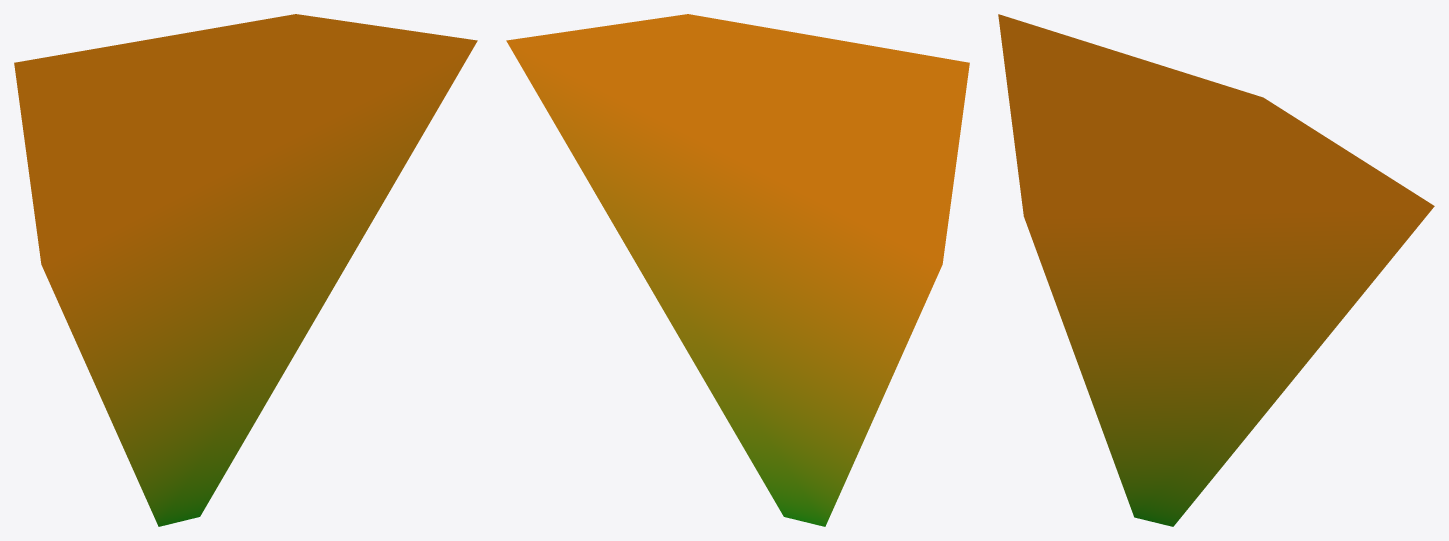
Rendered from Common Eelgrass_LOD4_Var3_sjglk.fbx.
3 renders of one model, left to right at view 1: azimuth 30°, elevation 25°; view 2: azimuth 150°, elevation 25°; view 3: azimuth 330°, elevation 25°, orthographic. The views are drawn at different scales.
Visible parts, largest first — view 1: _4f3b_Var3_LOD4; view 2: _4f3b_Var3_LOD4; view 3: _4f3b_Var3_LOD4.
Part boxes in pixels (x1,y1,x2,y2): _4f3b_Var3_LOD4: [14, 14, 477, 526]; _4f3b_Var3_LOD4: [506, 14, 969, 526]; _4f3b_Var3_LOD4: [998, 14, 1434, 526].
Bounding box in the file's own units: 49.79 × 51.24 × 1.01e-05.
